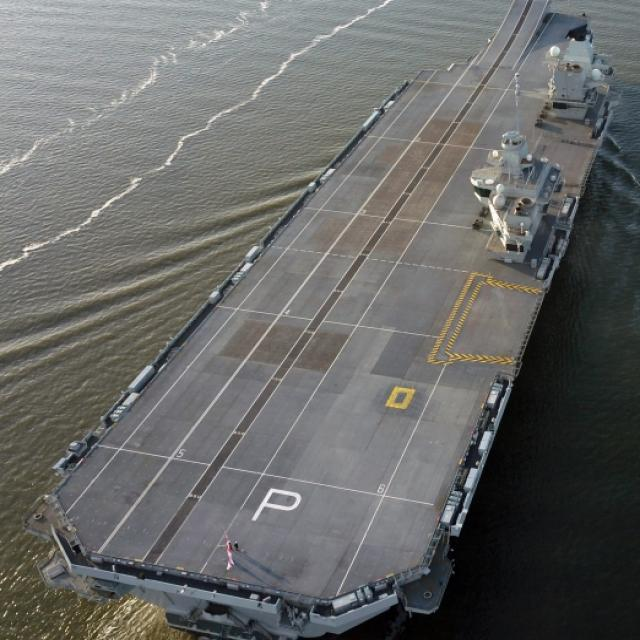Portanaves: (24, 1, 624, 640)
